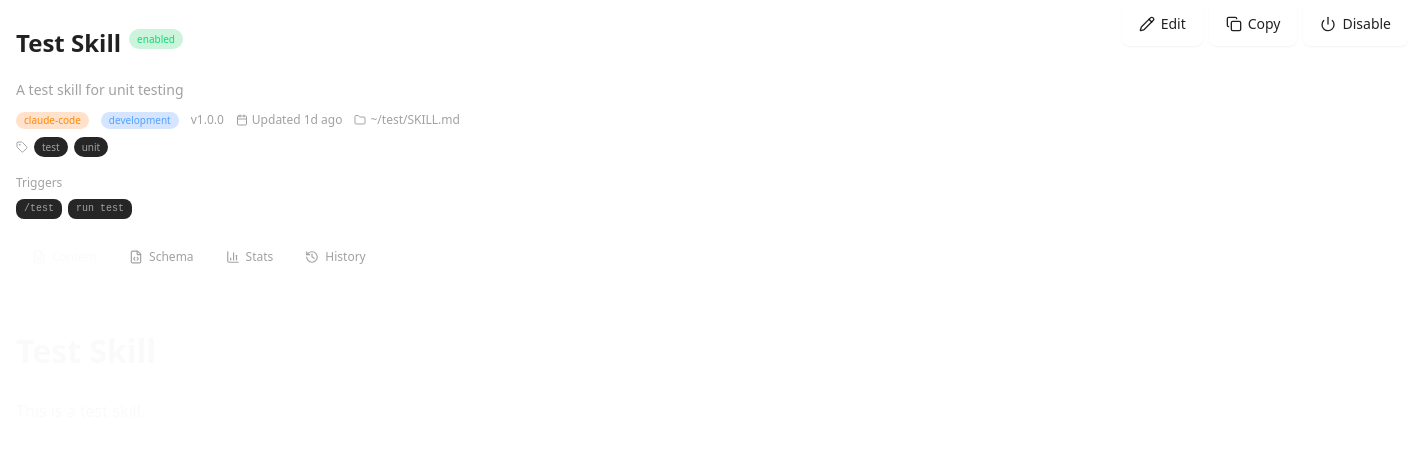
Test case: SkillDetail › should switch to stats tab and show statistics
Click the tab "Stats" at (249, 258), box [210, 236, 289, 280]
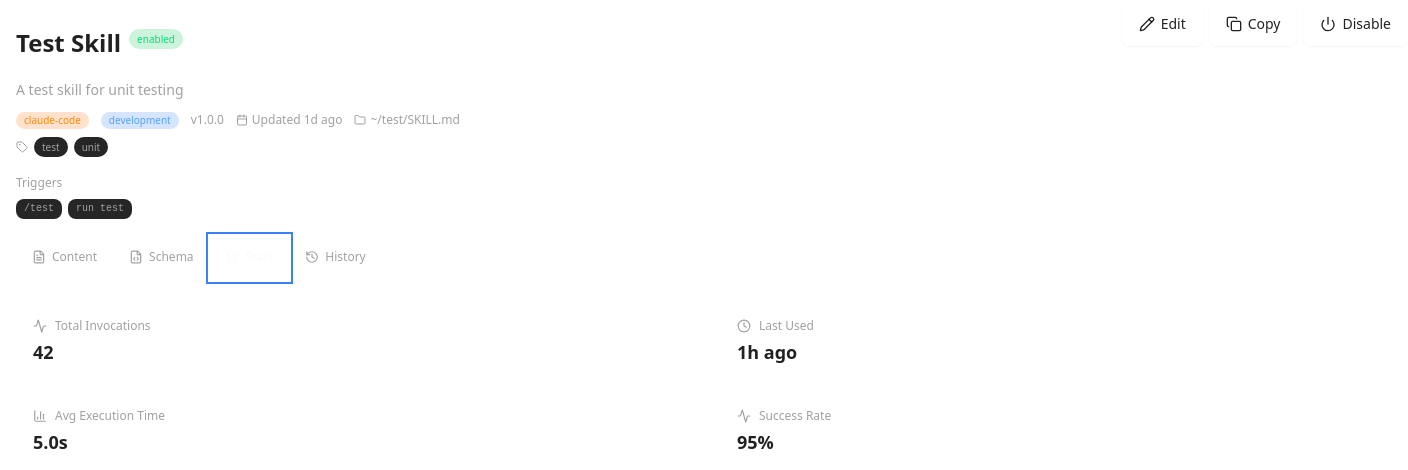
Check: the text "Total Invocations" is shown, box [33, 316, 151, 334]
Check: the text "42" is shown, box [33, 340, 54, 364]
Check: the text "5.0s" is shown, box [33, 430, 68, 454]
